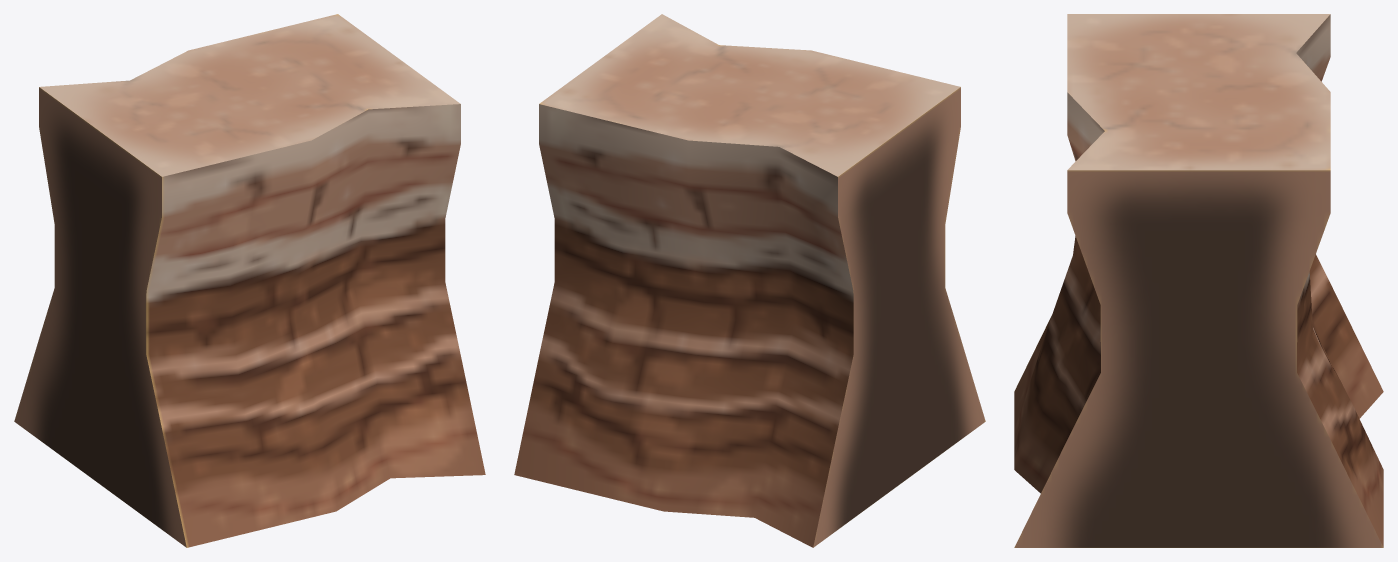
The model's file is Tile_2_Stra.fbx.
The picture shows the model from 3 angles, left to right: view 1: azimuth 30°, elevation 25°; view 2: azimuth 150°, elevation 25°; view 3: azimuth 270°, elevation 25°; orthographic projection. The views are drawn at different scales.
Visible parts, largest first — view 1: 2_Stra; view 2: 2_Stra; view 3: 2_Stra.
Part boxes in pixels (x1=…): 2_Stra: x1=14, y1=14, x2=485, y2=547; 2_Stra: x1=514, y1=14, x2=985, y2=547; 2_Stra: x1=1014, y1=14, x2=1383, y2=547.
Size of the model in its own units: 3 by 3.38 by 3.
